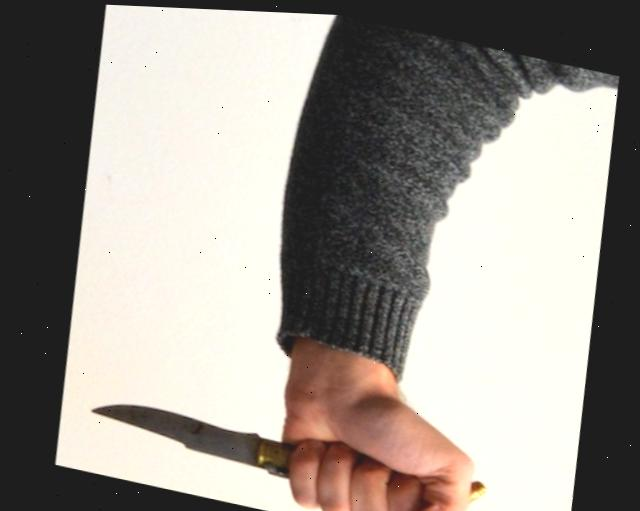pocket-knife: (72, 353, 486, 511)
